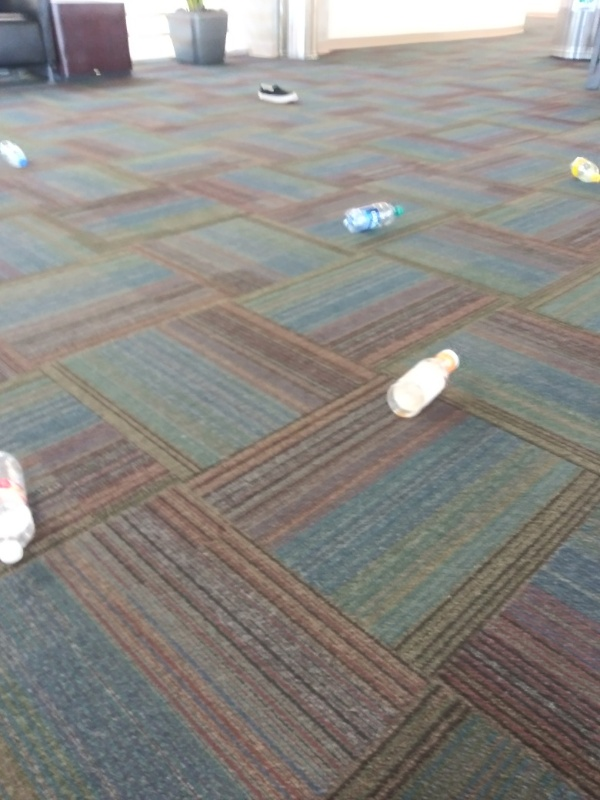bottle: (382, 346, 463, 420), (1, 449, 37, 568), (339, 200, 406, 236), (564, 153, 600, 190), (1, 139, 30, 170)
